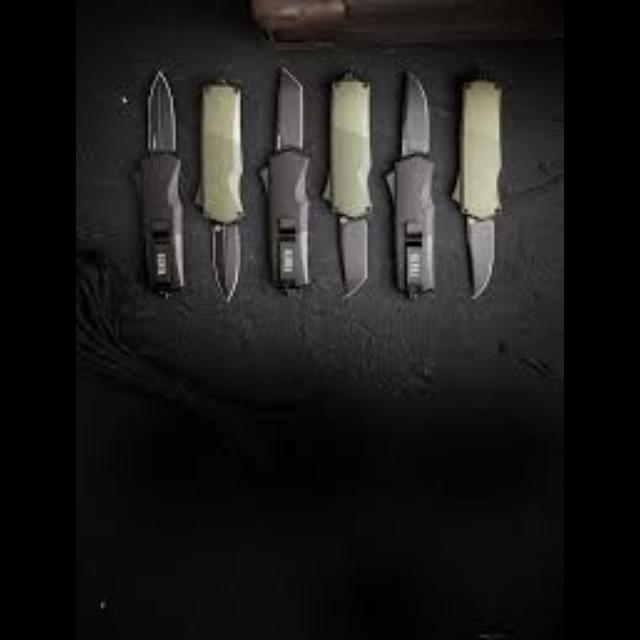knife: (450, 78, 502, 298), (322, 73, 372, 299), (194, 77, 242, 301), (139, 68, 183, 296), (266, 65, 310, 289), (392, 70, 434, 298)
